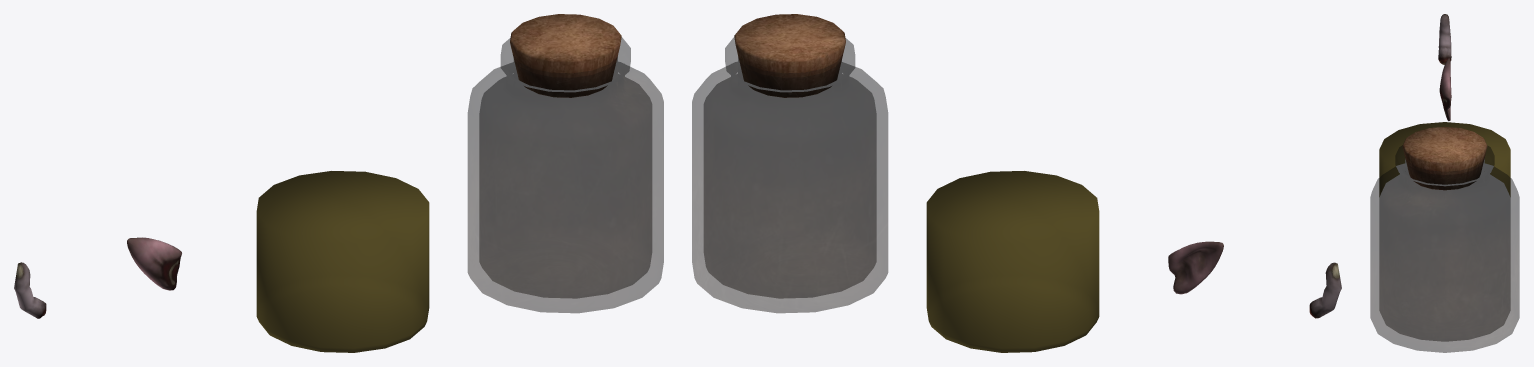
File: x_restos_formaldehyde_jar_asset_p.glb
The picture shows the model from 3 angles, left to right: view 1: azimuth 30°, elevation 25°; view 2: azimuth 150°, elevation 25°; view 3: azimuth 270°, elevation 25°; orthographic projection. The views are drawn at different scales.
Parts seen in each view (by area): view 1: ear_Material.003_0; view 2: ear_Material.003_0; view 3: ear_Material.003_0.
Boxes of the visible parts, x1,y1,x2,y2 form: ear_Material.003_0: (14,14,663,352); ear_Material.003_0: (692,14,1341,352); ear_Material.003_0: (1370,14,1519,352).
Size of the model in its own units: 0.4 by 0.1434 by 0.1078.
4 materials, 4 textured.
